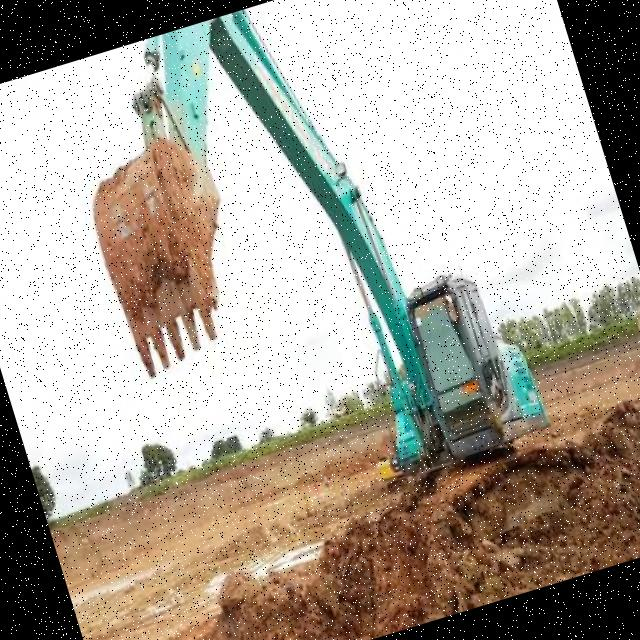Excavator: (44, 0, 597, 612)
